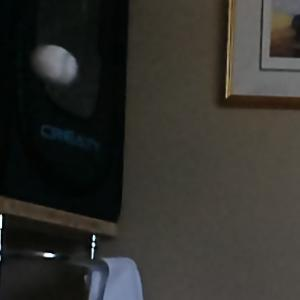ball: (29, 43, 80, 87)
